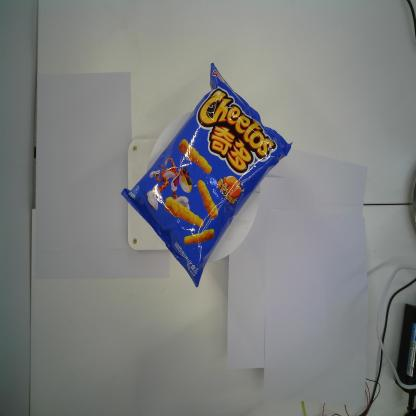Puffed Food: (119, 61, 293, 288)
